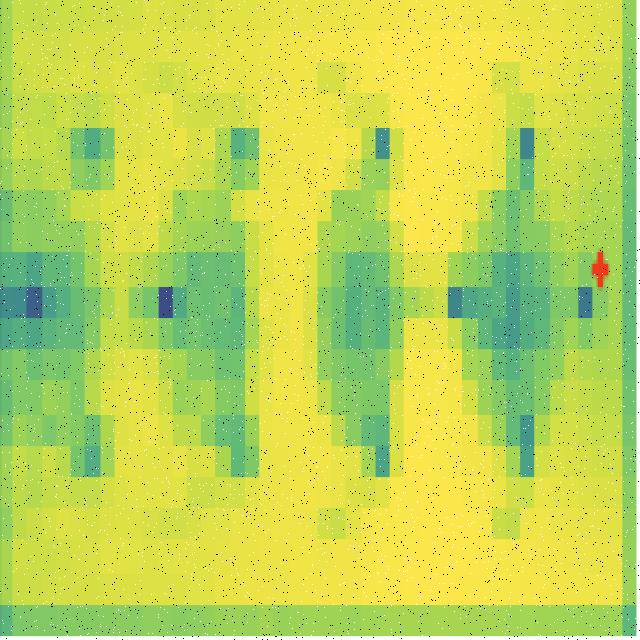Concrete: (310, 147, 427, 496)
Glass: (154, 123, 267, 494)
Metal: (466, 127, 594, 502)
Wood: (0, 132, 130, 482)
